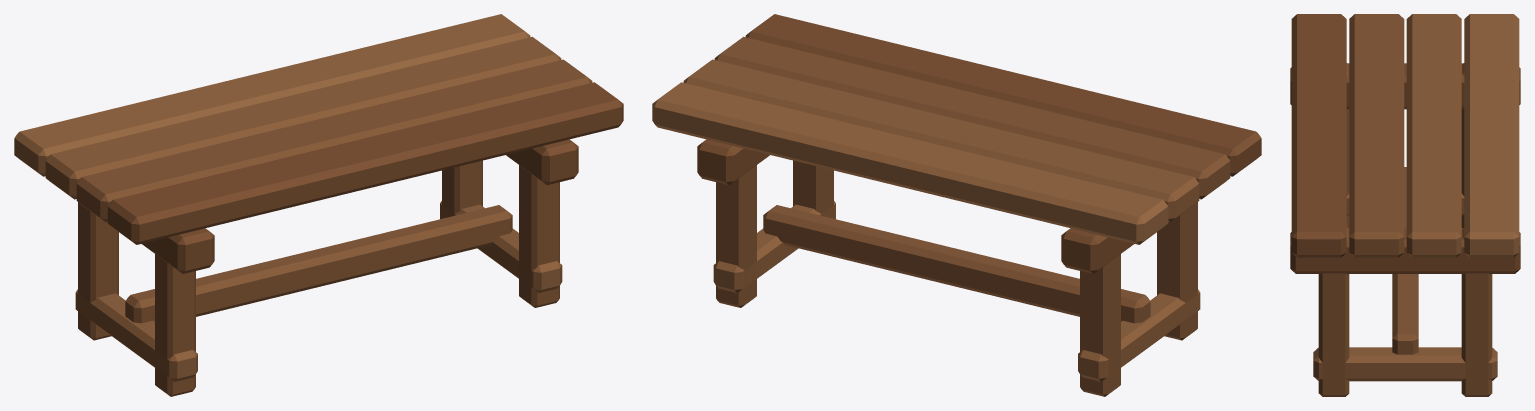
The model's file is PROP_04_WoodenTable.glb.
3 views of the same model, side by side, from view 1: azimuth 30°, elevation 25°; view 2: azimuth 150°, elevation 25°; view 3: azimuth 270°, elevation 25° (orthographic). The views are drawn at different scales.
Parts seen in each view (by area): view 1: PROP_04_WoodenTable; view 2: PROP_04_WoodenTable; view 3: PROP_04_WoodenTable.
Boxes of the visible parts, x1,y1,x2,y2 form: PROP_04_WoodenTable: [14, 14, 623, 396]; PROP_04_WoodenTable: [652, 14, 1261, 396]; PROP_04_WoodenTable: [1290, 14, 1520, 396].
Bounding box in the file's own units: 2.4 × 0.94 × 1.05.
